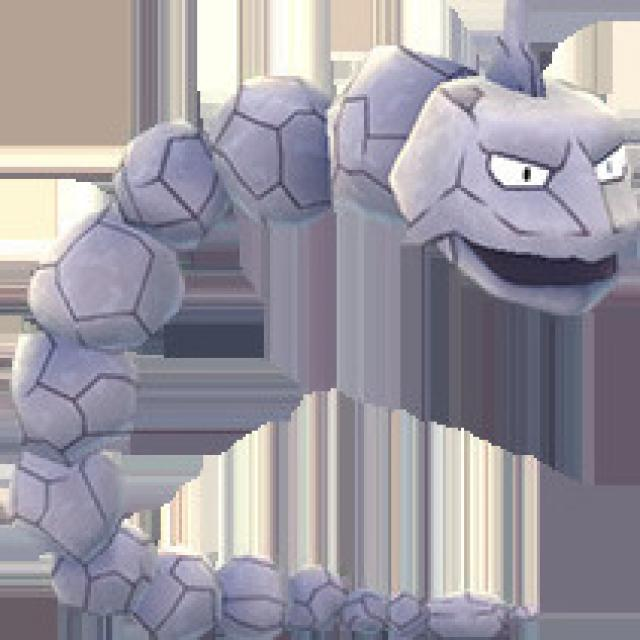Onix: (19, 44, 627, 634)
